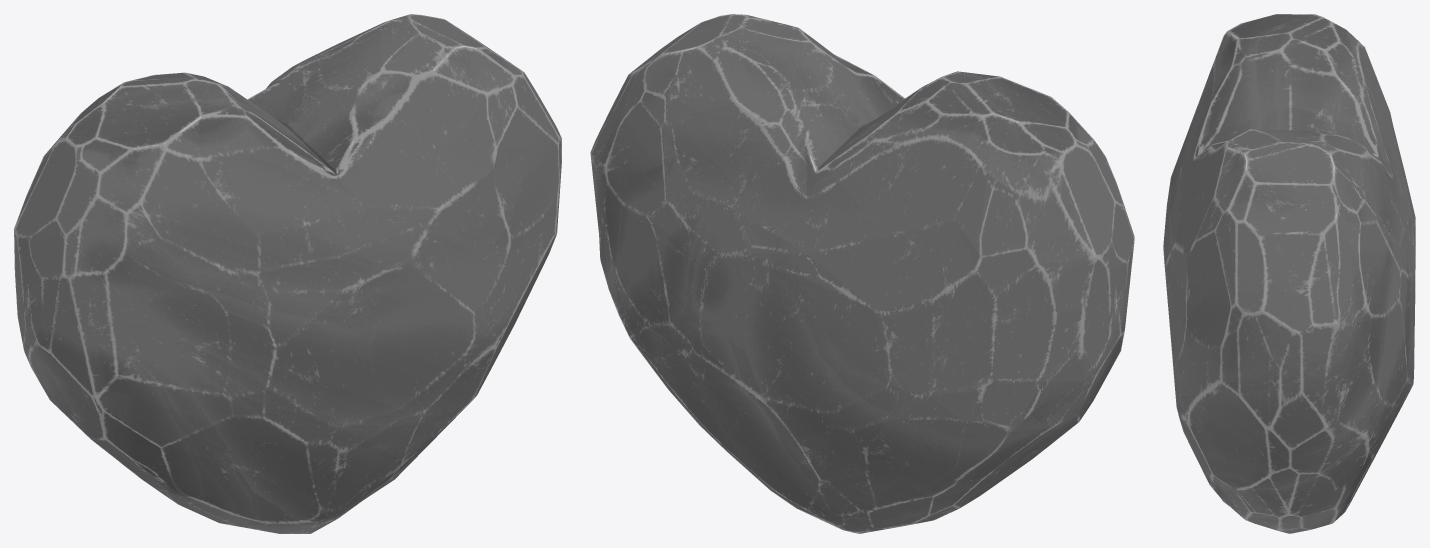
The model's file is greyHeart.glb.
3 renders of one model, left to right at view 1: azimuth 30°, elevation 25°; view 2: azimuth 150°, elevation 25°; view 3: azimuth 270°, elevation 25°, orthographic. The views are drawn at different scales.
Parts seen in each view (by area): view 1: Crystal_Heart_Crystal_Heart_Mat_0; view 2: Crystal_Heart_Crystal_Heart_Mat_0; view 3: Crystal_Heart_Crystal_Heart_Mat_0.
Part boxes in pixels (left/top/right/bottom): Crystal_Heart_Crystal_Heart_Mat_0: left=14, top=14, right=561, bottom=533; Crystal_Heart_Crystal_Heart_Mat_0: left=590, top=14, right=1134, bottom=533; Crystal_Heart_Crystal_Heart_Mat_0: left=1163, top=14, right=1415, bottom=533.
Bounding box in the file's own units: 116 × 99.9 × 51.79.
1 material, 1 textured.
